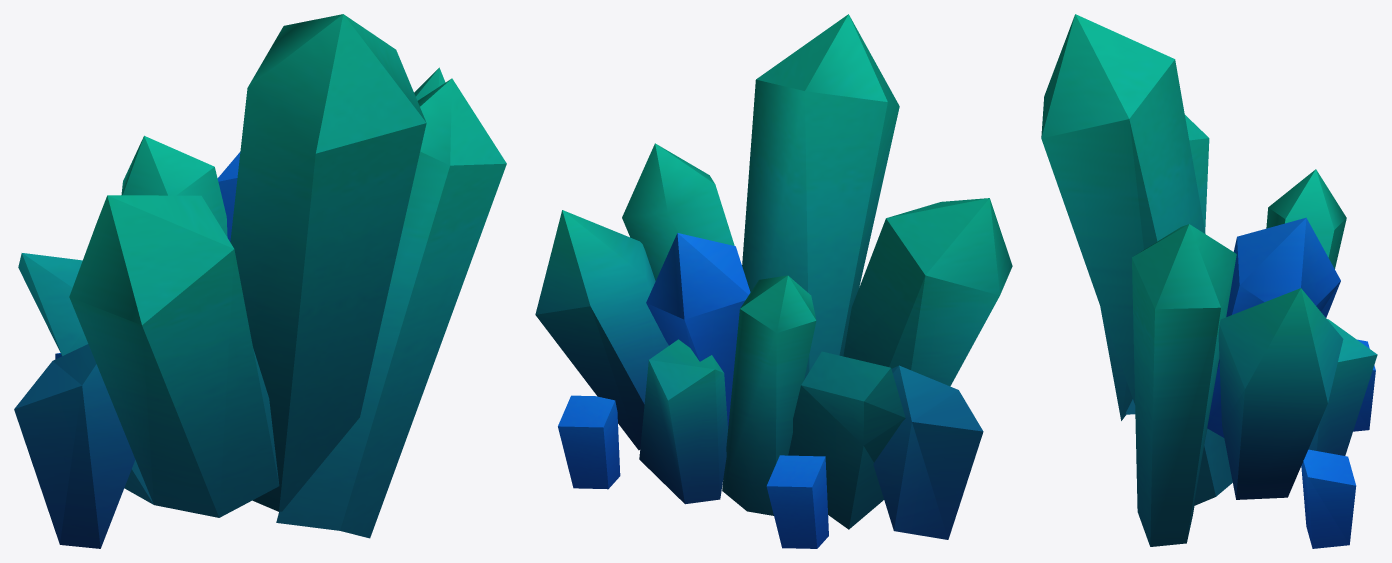
Rendered from ZLP_Crystalk_A_9.FBX.
3 renders of one model, left to right at view 1: azimuth 30°, elevation 25°; view 2: azimuth 150°, elevation 25°; view 3: azimuth 270°, elevation 25°, orthographic. The views are drawn at different scales.
Visible parts, largest first — view 1: ZLP_Crystalk_A_9; view 2: ZLP_Crystalk_A_9; view 3: ZLP_Crystalk_A_9.
Boxes of the visible parts, bbox=[...] form: ZLP_Crystalk_A_9: bbox=[14, 14, 506, 548]; ZLP_Crystalk_A_9: bbox=[535, 14, 1012, 548]; ZLP_Crystalk_A_9: bbox=[1041, 14, 1377, 548].
Size of the model in its own units: 152 by 169 by 103.
